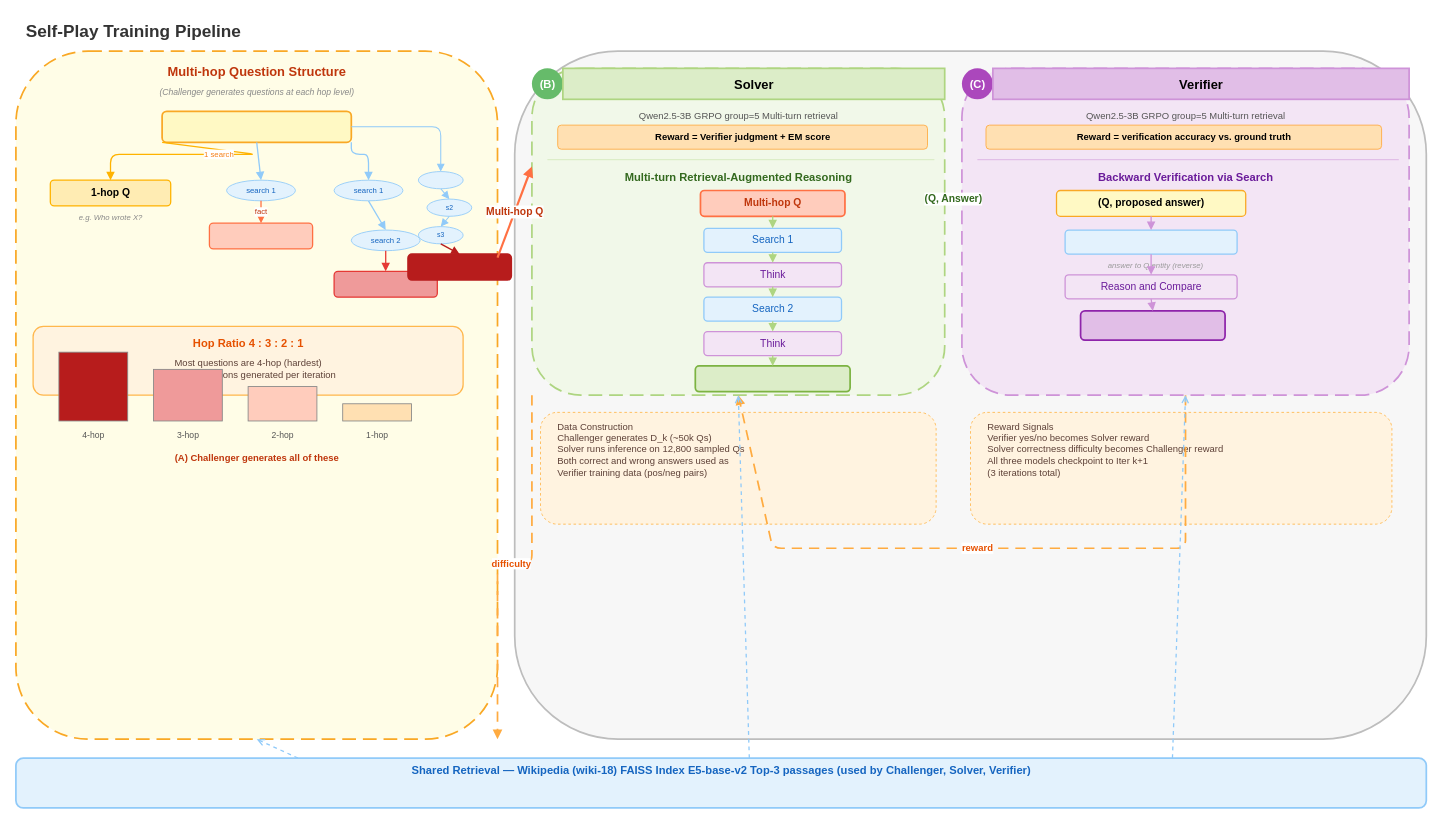
Some shapes in this 1441 by 823 pixel diagram are drawn without their labels. Each missing label, with the box of its shape:
2-hop Q: (208, 222, 313, 249)
3-hop Q: (333, 270, 438, 297)
4-hop Q: (407, 253, 512, 280)
answer: (694, 365, 851, 392)
Backward Search: (1064, 229, 1237, 254)
s1: (418, 171, 463, 189)
Wikipedia Document: (161, 110, 352, 143)
yes / no: (1079, 310, 1226, 341)
